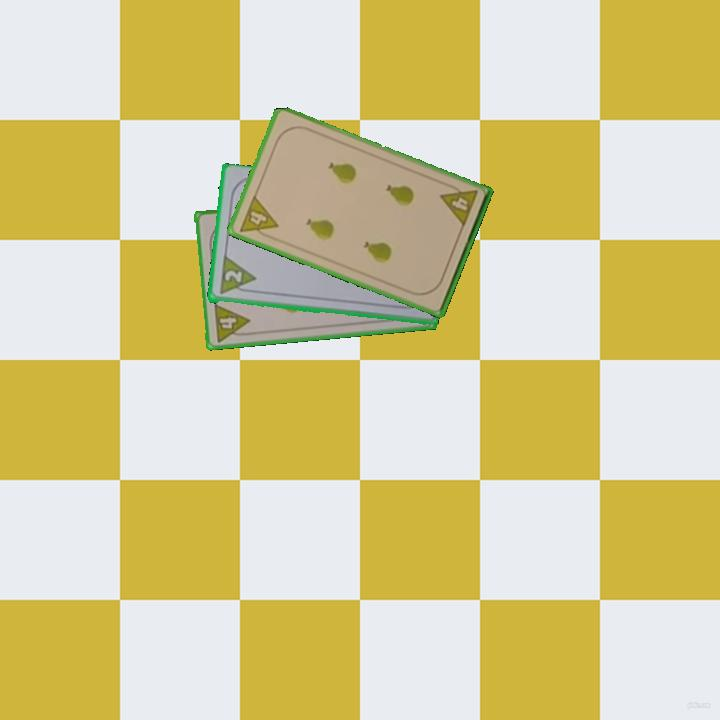2p: (215, 254, 258, 297)
4p: (235, 192, 281, 243), (437, 180, 480, 230), (210, 300, 254, 345)
